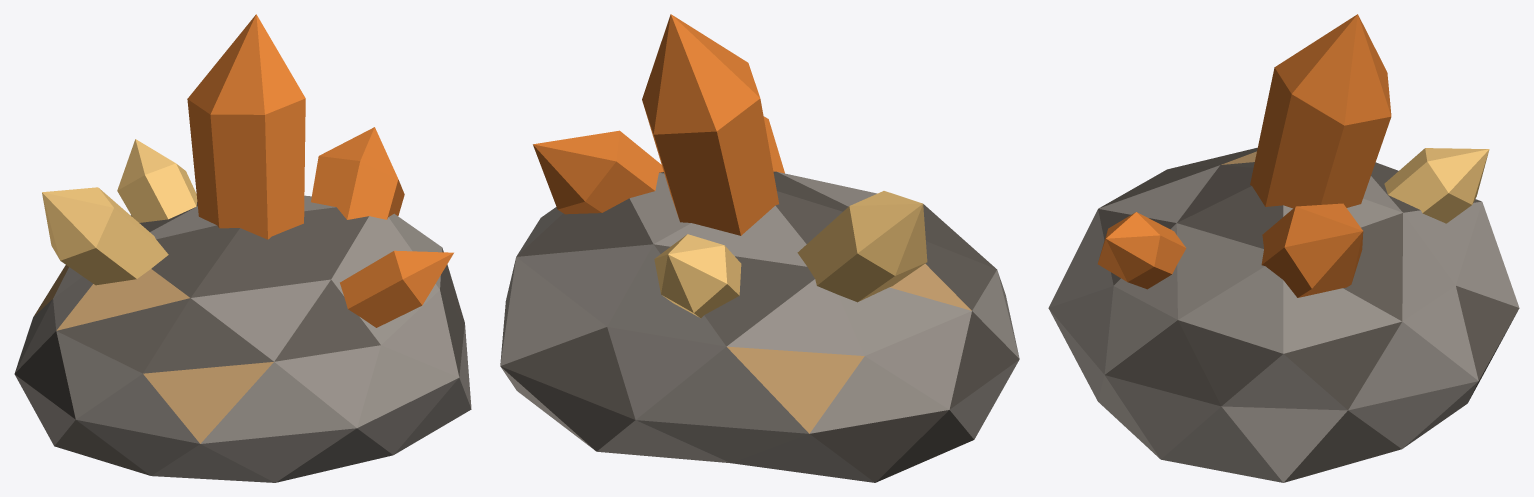
The model's file is it-roughgem.glb.
The picture shows the model from 3 angles, left to right: view 1: azimuth 30°, elevation 25°; view 2: azimuth 150°, elevation 25°; view 3: azimuth 270°, elevation 25°; orthographic projection. The views are drawn at different scales.
Visible parts, largest first — view 1: rock, crystal_main, crystal_left, crystal_right, crystal_front, crystal_back; view 2: rock, crystal_main, crystal_left, crystal_right, crystal_back; view 3: rock, crystal_main, crystal_right, crystal_back, crystal_front.
Boxes of the visible parts, left/top/right/bottom form: rock: left=14, top=195, right=471, bottom=482; crystal_main: left=187, top=14, right=305, bottom=239; crystal_left: left=42, top=187, right=168, bottom=285; crystal_right: left=311, top=127, right=404, bottom=219; crystal_front: left=340, top=250, right=453, bottom=327; crystal_back: left=117, top=139, right=197, bottom=222; rock: left=500, top=171, right=1019, bottom=482; crystal_main: left=642, top=14, right=778, bottom=235; crystal_left: left=797, top=191, right=927, bottom=302; crystal_right: left=533, top=130, right=663, bottom=214; crystal_back: left=654, top=234, right=741, bottom=318; rock: left=1048, top=147, right=1519, bottom=482; crystal_main: left=1250, top=14, right=1391, bottom=208; crystal_right: left=1261, top=203, right=1363, bottom=297; crystal_back: left=1384, top=148, right=1489, bottom=223; crystal_front: left=1097, top=212, right=1186, bottom=289.
Size of what is drawn, in the model's own units: 0.142 by 0.1174 by 0.1313.
